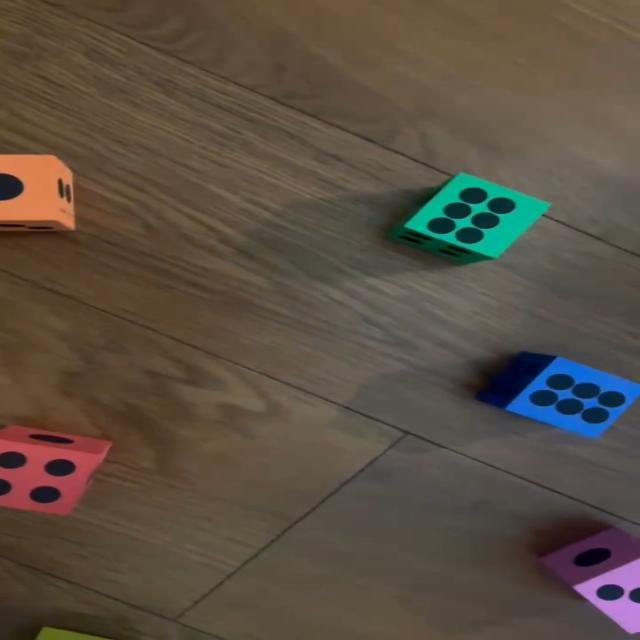blue_block: (475, 351, 640, 438)
red_block: (0, 424, 110, 518)
